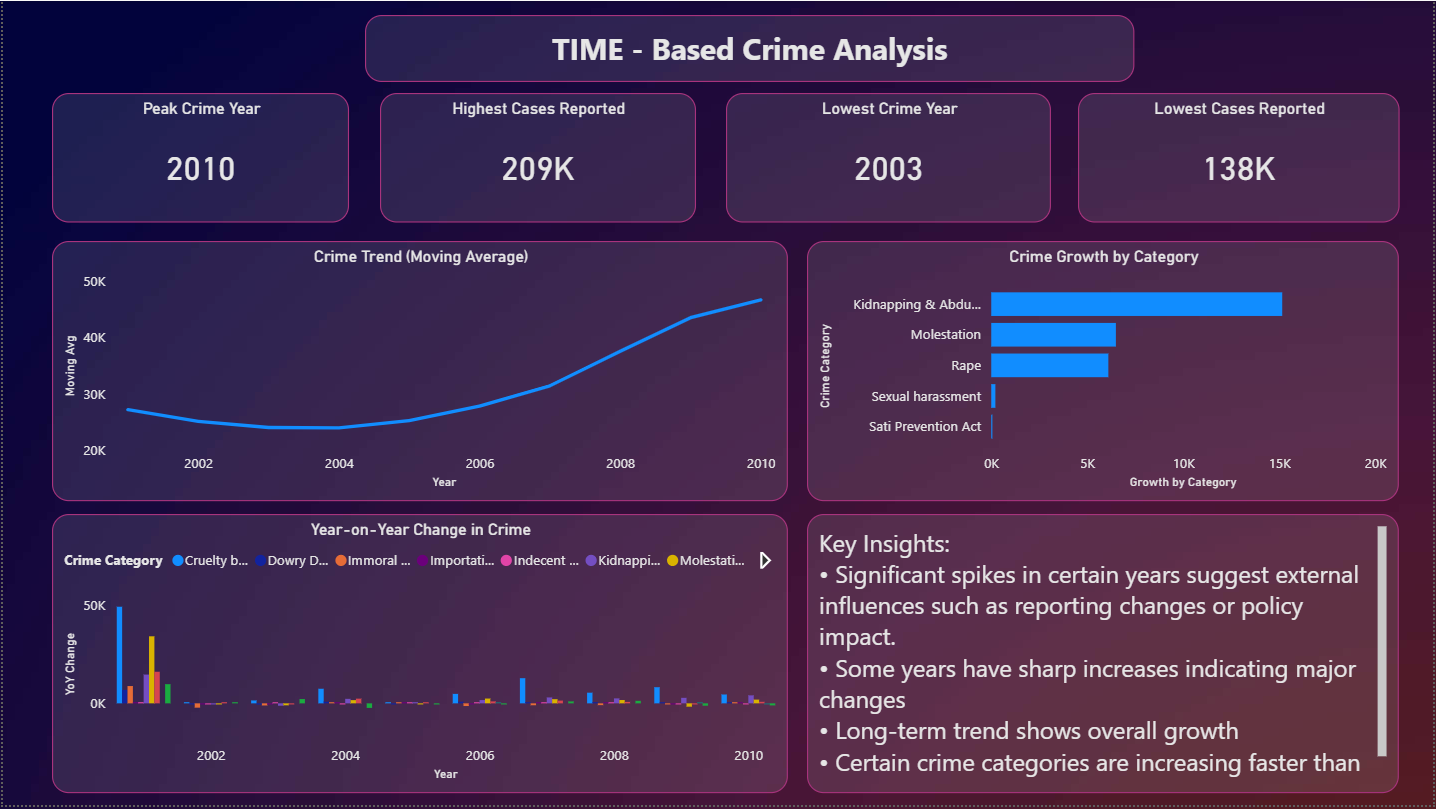

What the dashboard file says about the page in this screenshot:
{"tool":"powerbi","page":{"name":"Time Pattern Analysis","canvas":[1280,720],"ordinal":3},"visuals":[{"type":"lineChart","title":"Crime Trend (Moving Average)","fields":{"Category":["CrimeData.Year"],"Y":["CrimeData.Moving Avg"]},"box":[43.8,215,658.8,232.5],"z":0},{"type":"clusteredColumnChart","title":"Year-on-Year Change in Crime","fields":{"Category":["CrimeData.Year"],"Series":["CrimeData.Group_Name"],"Y":["CrimeData.YoY Change"]},"box":[43.9,459.7,658.7,249.7],"z":1000},{"type":"clusteredBarChart","title":"Crime Growth by Category","fields":{"Y":["CrimeData.Growth by Category"],"Category":["CrimeData.Group_Name"]},"box":[720,215,530,232.5],"z":2000},{"type":"card","title":"Highest Cases Reported","fields":{"Values":["CrimeData.Peak Cases"]},"box":[337.5,82.5,282.5,116.2],"z":3000},{"type":"card","title":"Lowest Cases Reported","fields":{"Values":["CrimeData.Min Cases"]},"box":[962.5,82.5,287.5,116.2],"z":4000},{"type":"card","title":"Peak Crime Year","fields":{"Values":["CrimeData.Peak Year"]},"box":[43.8,82.5,266.2,116.2],"z":5000},{"type":"card","title":"Lowest Crime Year","fields":{"Values":["CrimeData.Lowest Crime Year"]},"box":[647.5,82.5,291.2,116.2],"z":6000},{"type":"textbox","box":[720.4,459.7,529.7,249.7],"z":7000},{"type":"textbox","box":[323.8,12.3,688.9,60.4],"z":8000}]}

Visuals, with their boxes in screenshot pixels (x1, y1, x2, y2), scaled from the page's 1280x720 canvas onto the 1436x809 screenshot:
"Crime Trend (Moving Average)" lineChart: <box>49,242,788,503</box>
"Year-on-Year Change in Crime" clusteredColumnChart: <box>49,517,788,797</box>
"Crime Growth by Category" clusteredBarChart: <box>808,242,1402,503</box>
"Highest Cases Reported" card: <box>379,93,696,223</box>
"Lowest Cases Reported" card: <box>1080,93,1402,223</box>
"Peak Crime Year" card: <box>49,93,348,223</box>
"Lowest Crime Year" card: <box>726,93,1053,223</box>
textbox: <box>808,517,1402,797</box>
textbox: <box>363,14,1136,82</box>
